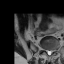CCS_normal: (48, 47, 50, 58)
LFS_normal: (52, 46, 55, 54)
LLS_normal: (50, 47, 52, 56)
RFS_stenosis: (44, 46, 46, 53)
RLS_normal: (46, 47, 48, 56)
